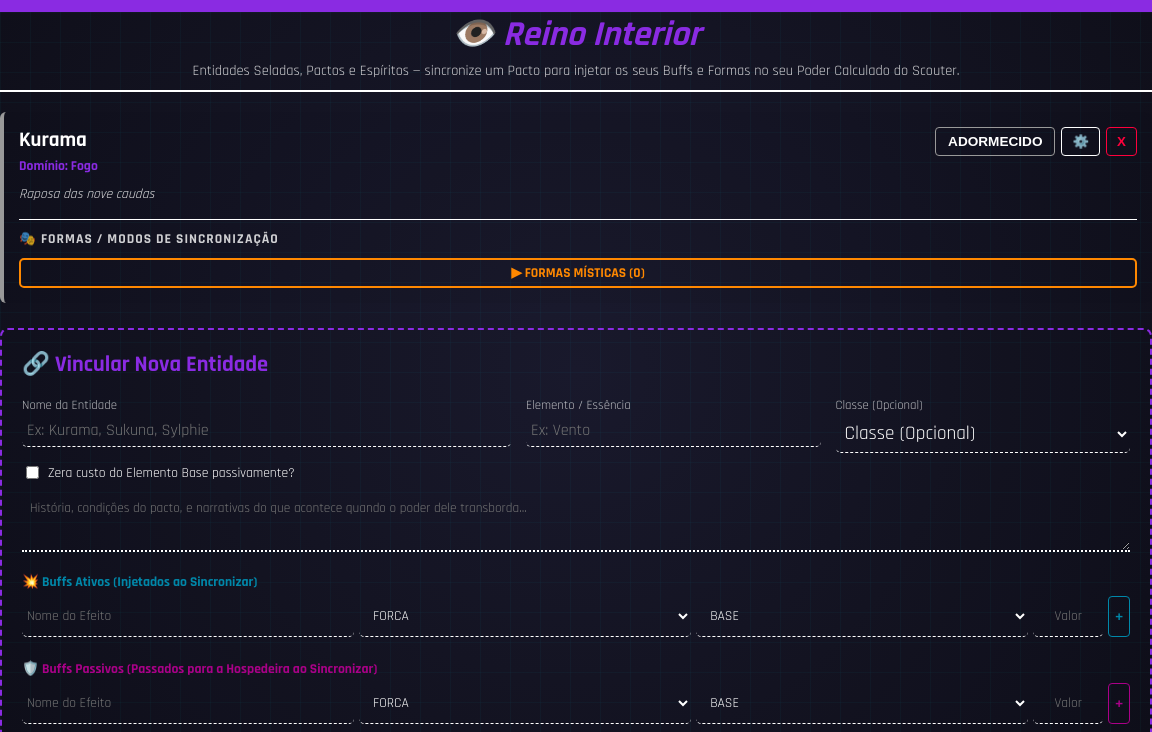
Scenario: PactosPanel — editar Pacto (⚙️) bloqueado enquanto .ativo === true › clicar em ⚙️ num pacto INATIVO carrega os dados no formulário de edição
What coordinates should you click on to do the following:
click the button "⚙️"
I would click on:
 (1081, 142)
Its box is [1062,127,1100,156].
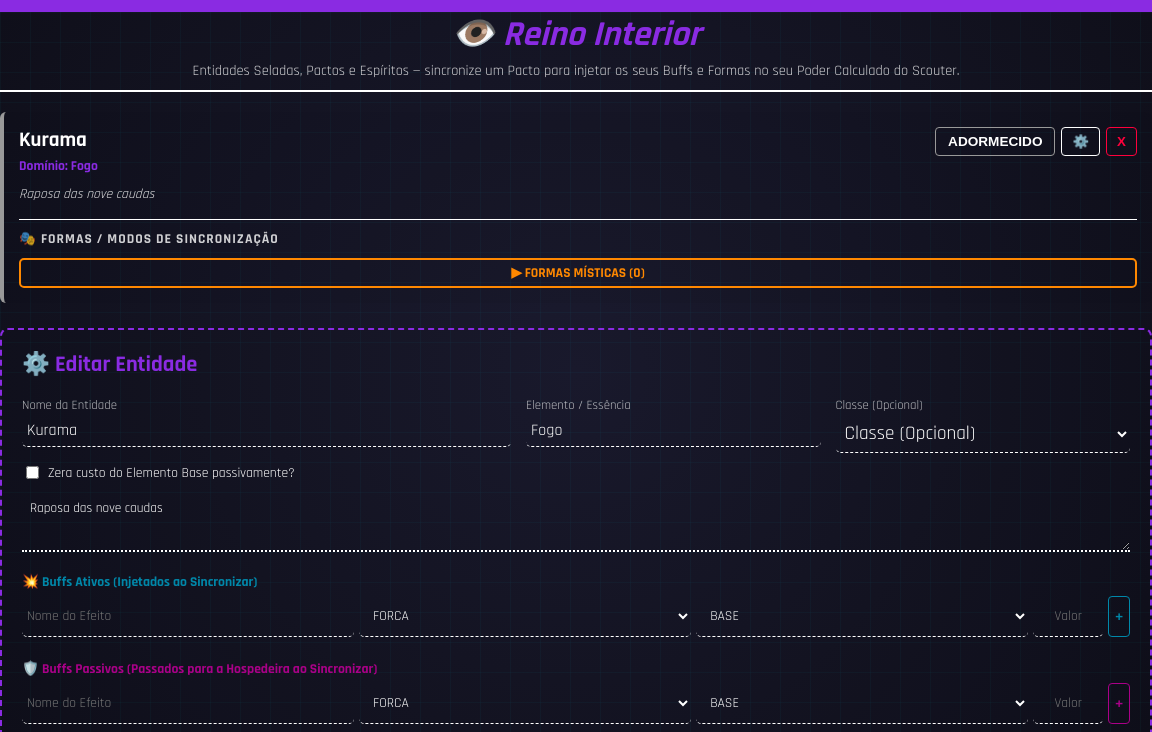
Expected: the heading "⚙️ Editar Entidade" is shown, [22,350,197,379]
Expected: the field with placeholder "Ex: Kurama, Sukuna, Sylphie" below "Nome da Entidade" holds "Kurama", [22,415,511,447]
Expected: the field with placeholder "Ex: Vento" below "Elemento / Essência" holds "Fogo", [526,415,820,447]
